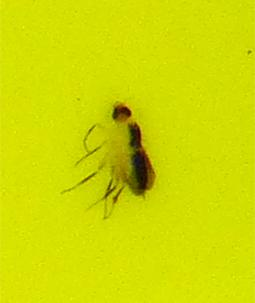Brachycera: (100, 100, 155, 203)
